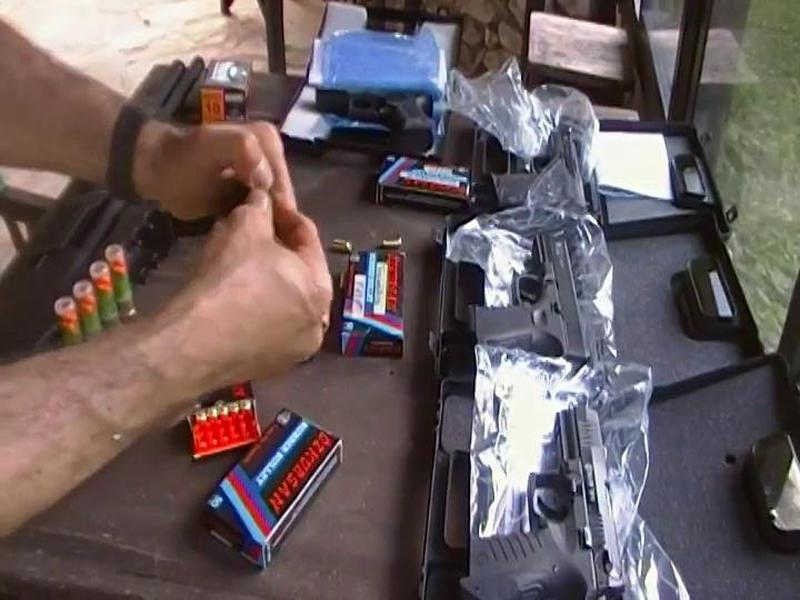Pistola: (444, 400, 648, 600), (440, 228, 612, 383)
